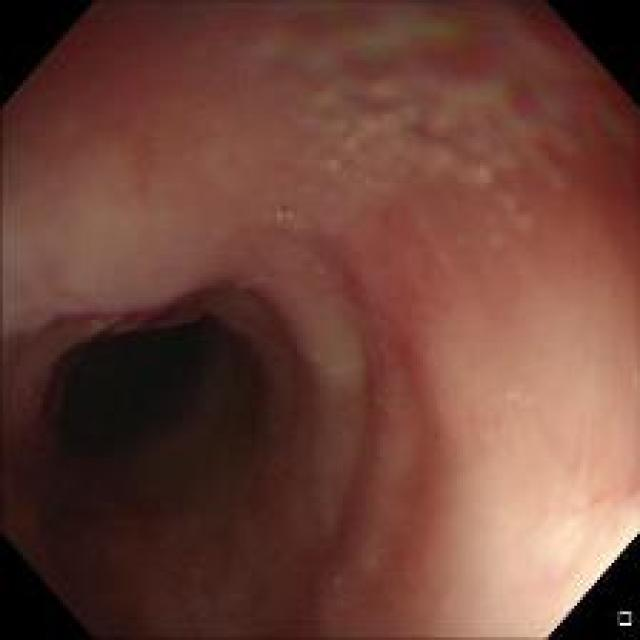color misalignment: (261, 15, 465, 80), (575, 89, 630, 139), (505, 81, 540, 118)
contrast: (10, 276, 304, 630)
saturation: (512, 476, 636, 634)
